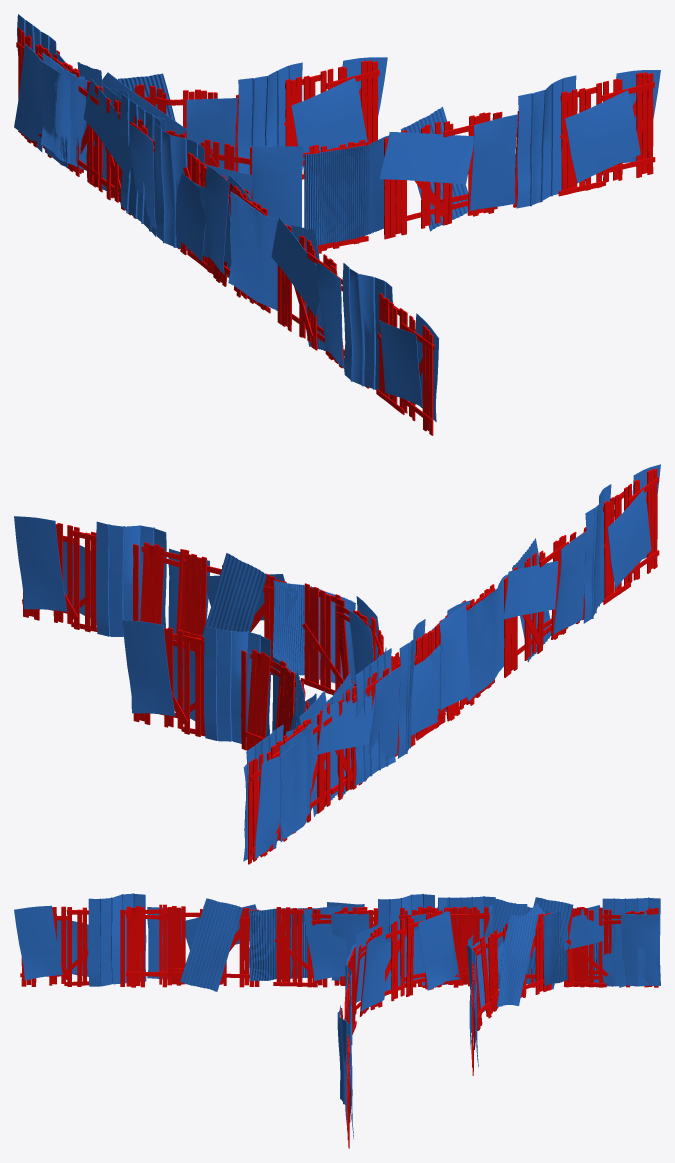
Rendered from SM_shantyMetalKit_Fence.fbx.
3 views of the same model, one above another, from view 1: azimuth 30°, elevation 25°; view 2: azimuth 150°, elevation 25°; view 3: azimuth 270°, elevation 25° (orthographic). The views are drawn at different scales.
Parts seen in each view (by area): view 1: shantyMetalKit_Fence_4, shantyMetalKit_Fence_2, shantyMetalKit_Fence_3, shantyWoodKit_Fence_9, shantyMetalKit_Fence_1, shantyWoodKit_Fence_7, shantyWoodKit_Fence_8, shantyWoodKit_Fence_6; view 2: shantyMetalKit_Fence_2, shantyMetalKit_Fence_4, shantyWoodKit_Fence_9, shantyMetalKit_Fence_3, shantyWoodKit_Fence_7, shantyMetalKit_Fence_1, shantyWoodKit_Fence_8, shantyWoodKit_Fence_6; view 3: shantyMetalKit_Fence_2, shantyWoodKit_Fence_7, shantyMetalKit_Fence_4, shantyMetalKit_Fence_1, shantyMetalKit_Fence_3, shantyWoodKit_Fence_6, shantyWoodKit_Fence_9, shantyWoodKit_Fence_8.
Boxes of the visible parts, x1,y1,x2,y2 form: shantyMetalKit_Fence_4: (39,70,660,245); shantyMetalKit_Fence_2: (14,14,439,422); shantyMetalKit_Fence_3: (51,57,387,173); shantyWoodKit_Fence_9: (165,72,655,253); shantyMetalKit_Fence_1: (40,52,251,266); shantyWoodKit_Fence_7: (16,30,434,435); shantyWoodKit_Fence_8: (56,60,379,179); shantyWoodKit_Fence_6: (18,27,243,295); shantyMetalKit_Fence_2: (243,464,660,861); shantyMetalKit_Fence_4: (14,516,388,841); shantyWoodKit_Fence_9: (22,517,384,694); shantyMetalKit_Fence_3: (122,620,316,828); shantyWoodKit_Fence_7: (250,468,659,861); shantyMetalKit_Fence_1: (243,599,474,855); shantyWoodKit_Fence_8: (133,627,309,833); shantyWoodKit_Fence_6: (248,604,470,864); shantyMetalKit_Fence_2: (14,893,660,991); shantyWoodKit_Fence_7: (20,904,652,987); shantyMetalKit_Fence_4: (337,897,459,1138); shantyMetalKit_Fence_1: (303,893,658,989); shantyMetalKit_Fence_3: (467,903,576,1066); shantyWoodKit_Fence_6: (312,906,658,987); shantyWoodKit_Fence_9: (341,907,467,1148); shantyWoodKit_Fence_8: (471,907,597,1075).
Size of the model in its own units: 1042 by 272 by 1681.
